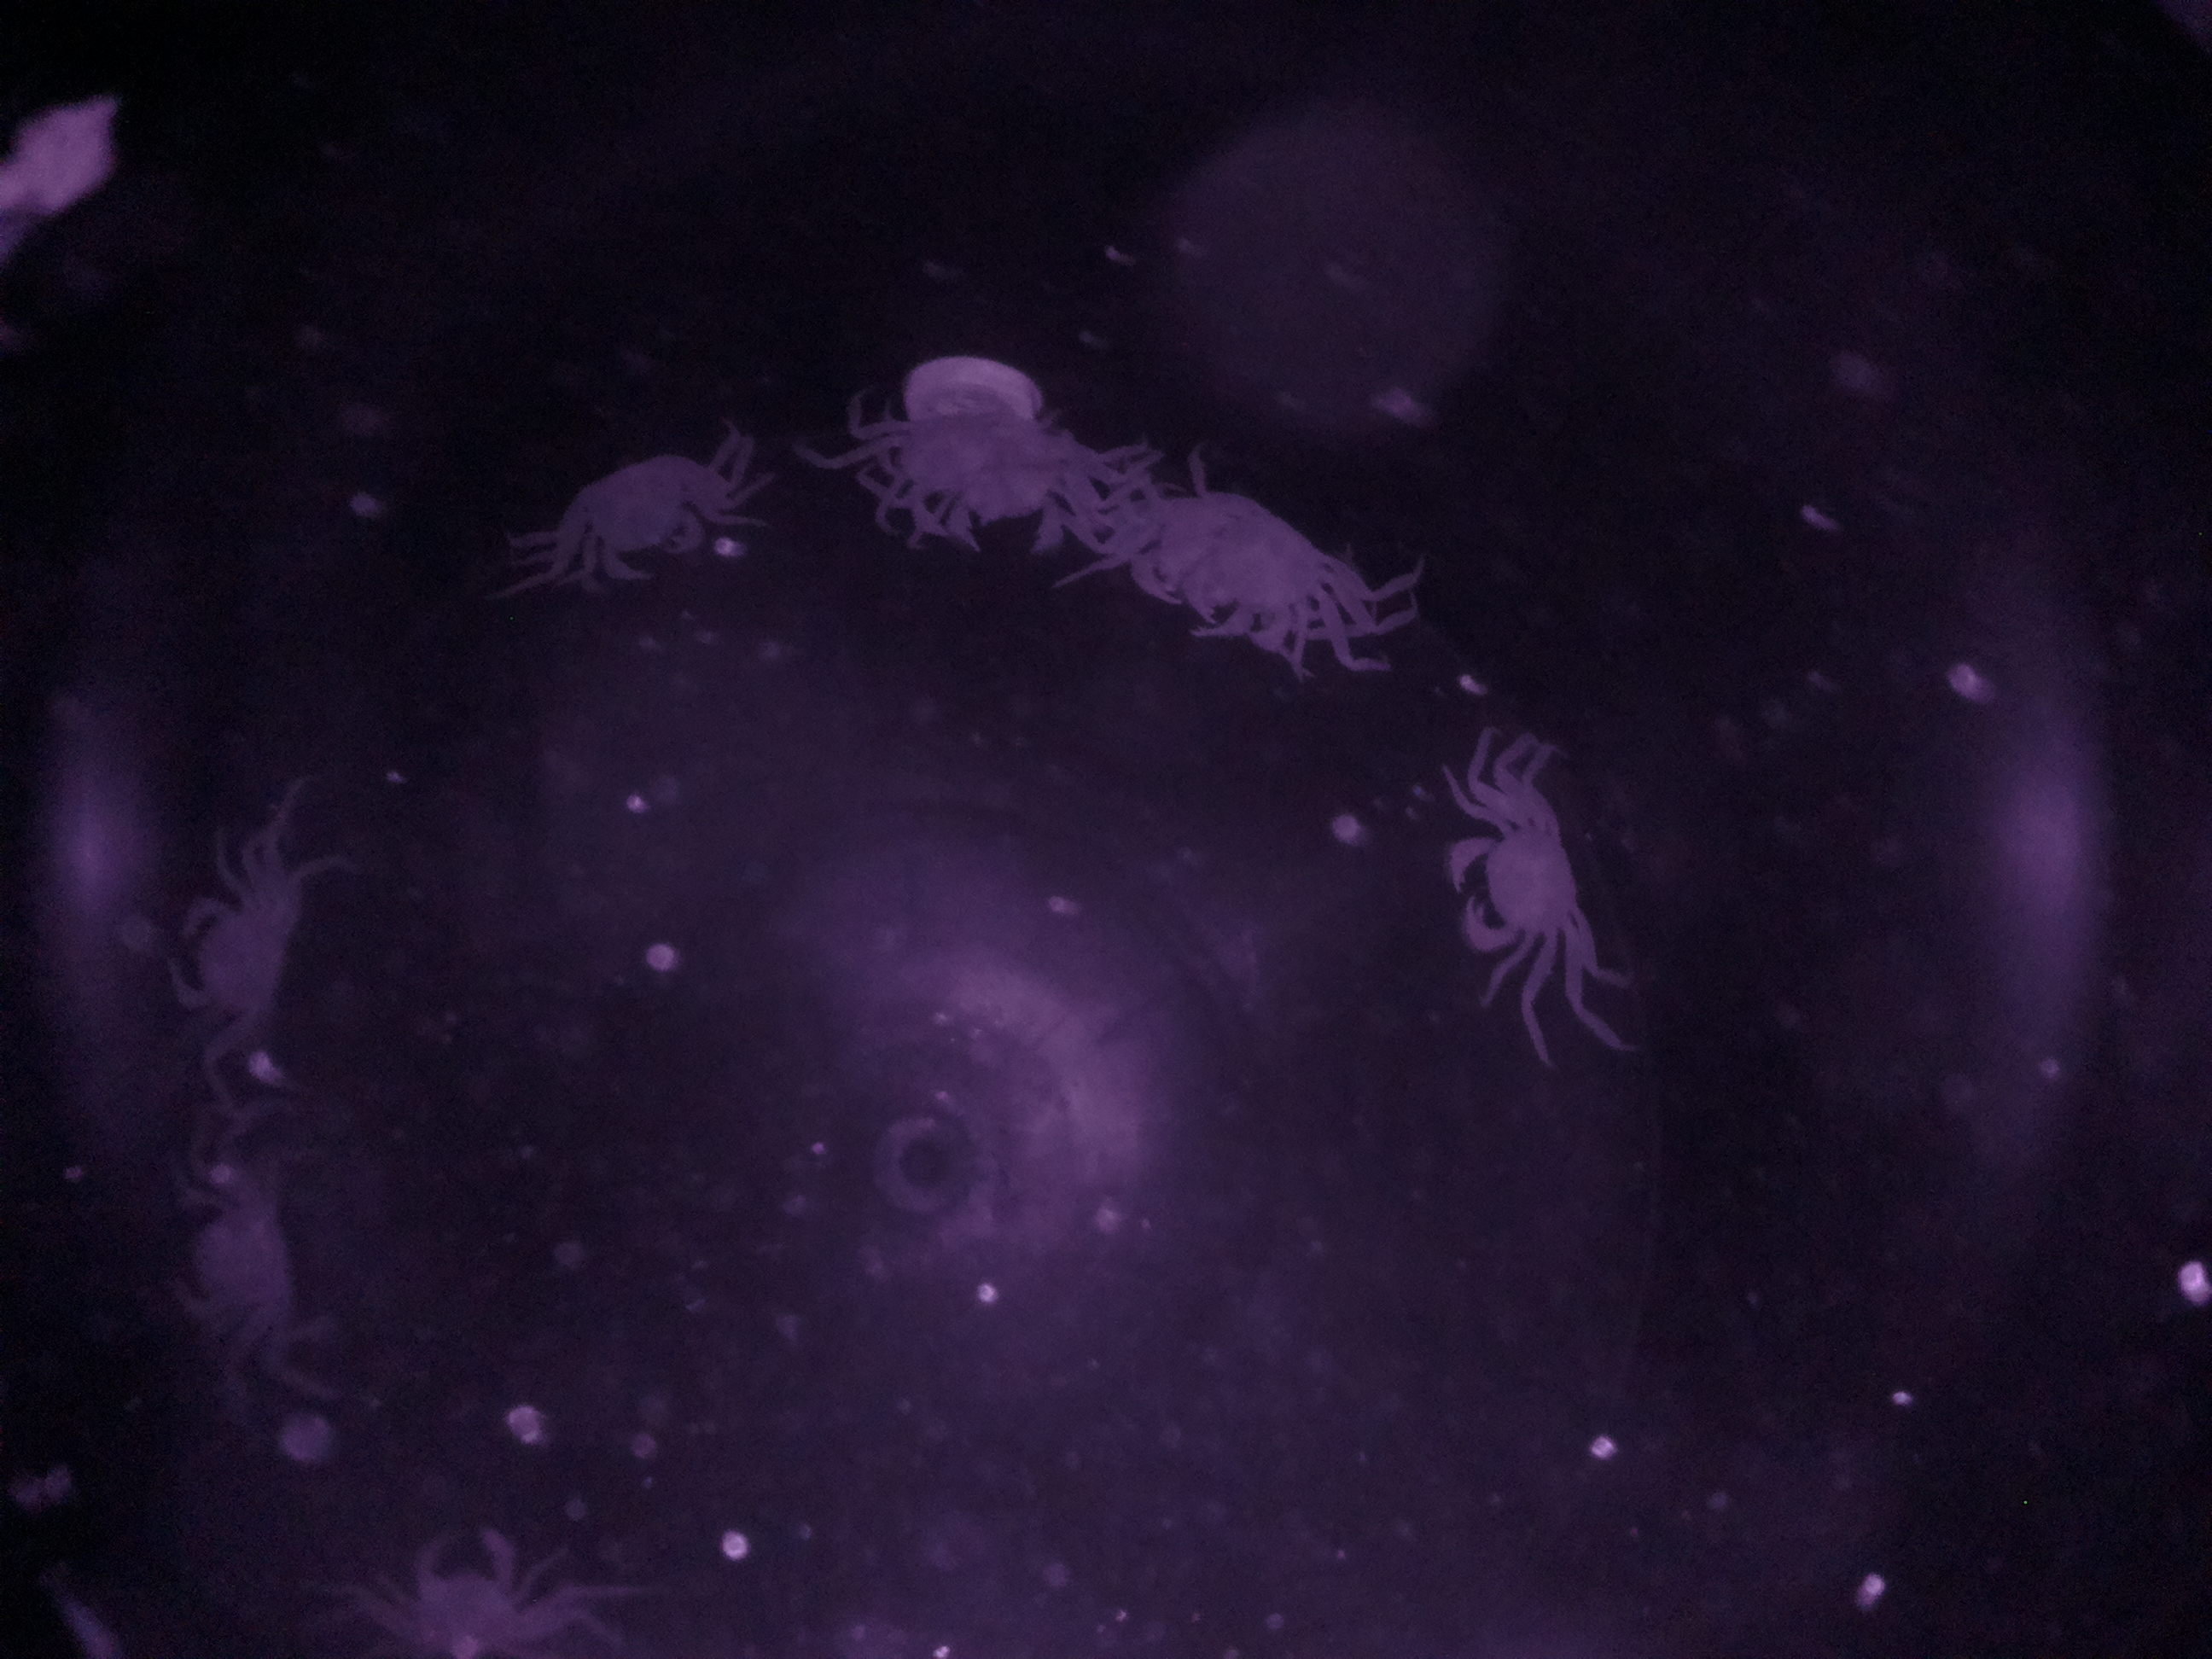Crab: (1435, 786, 1608, 997), (561, 432, 749, 615)
